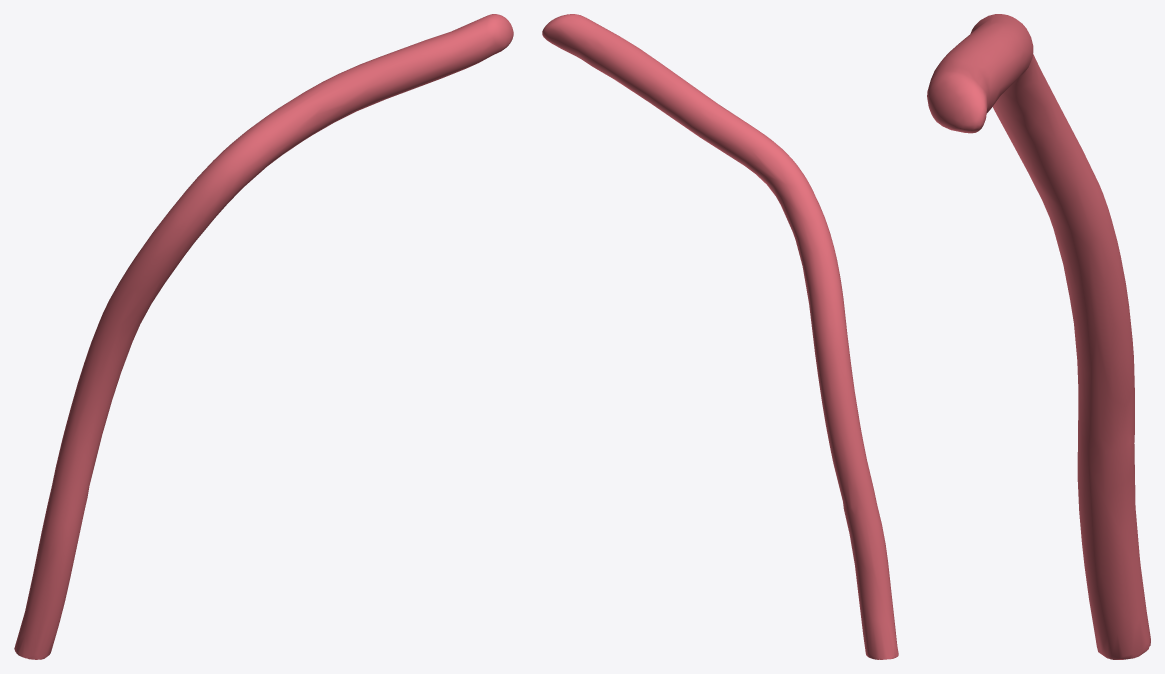
The model's file is fma13330_fj2269.glb.
3 renders of one model, left to right at view 1: azimuth 30°, elevation 25°; view 2: azimuth 150°, elevation 25°; view 3: azimuth 270°, elevation 25°, orthographic. The views are drawn at different scales.
Parts seen in each view (by area): view 1: FMA13330_FJ2269; view 2: FMA13330_FJ2269; view 3: FMA13330_FJ2269.
Boxes of the visible parts, x1,y1,x2,y2 form: FMA13330_FJ2269: (14, 14, 513, 659); FMA13330_FJ2269: (542, 14, 898, 659); FMA13330_FJ2269: (927, 14, 1150, 659).
Size of the model in its own units: 0.0822 by 0.1023 by 0.0238.
